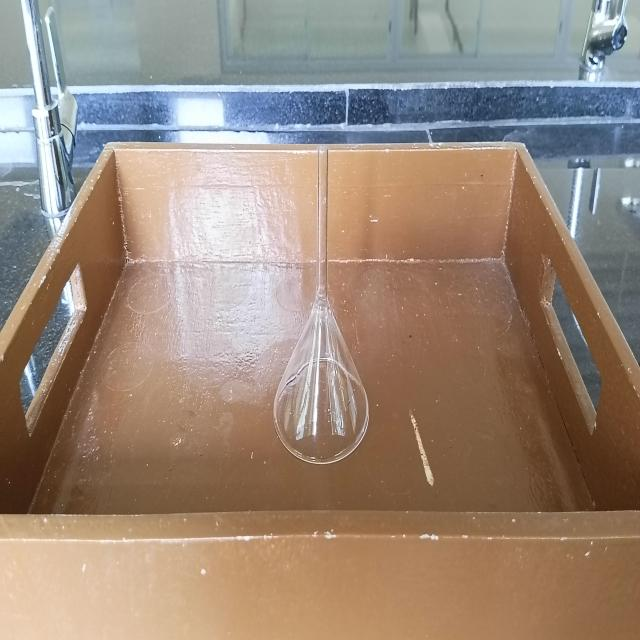funnel: (270, 140, 372, 472)
